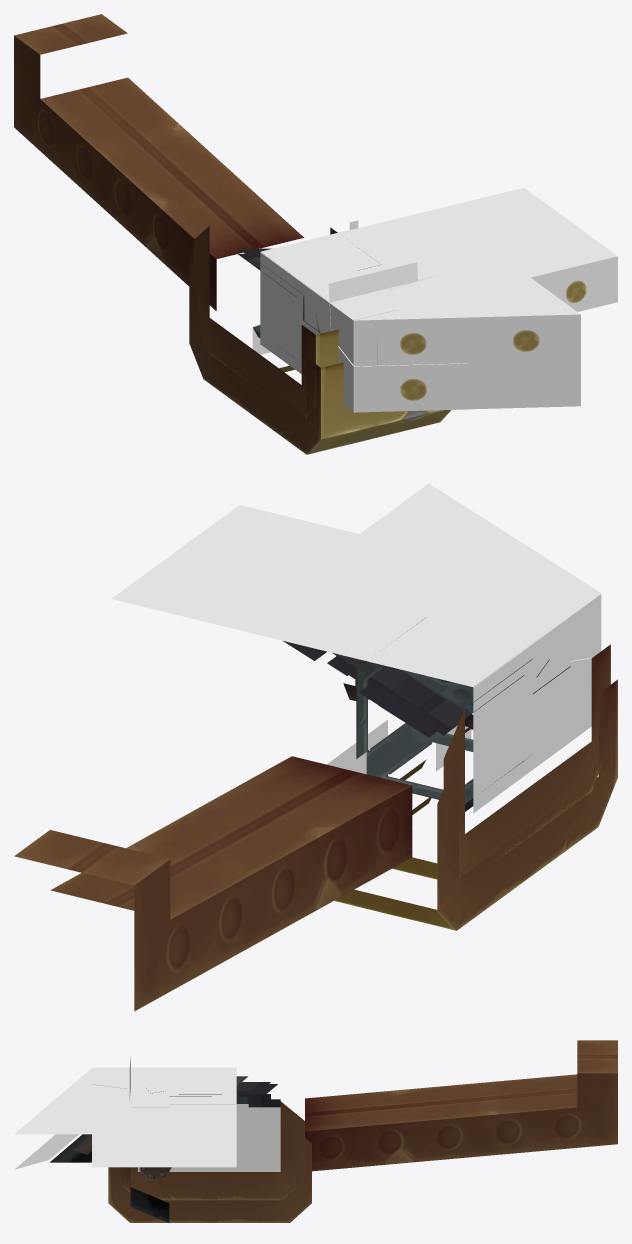
The model's file is rail.glb.
The picture shows the model from 3 angles, top to bottom: view 1: azimuth 30°, elevation 25°; view 2: azimuth 150°, elevation 25°; view 3: azimuth 270°, elevation 25°; orthographic projection. The views are drawn at different scales.
Visible parts, largest first — view 1: rsrc.world.tileset.prize_vault.edge_rail.rail-Variant[rail_b (×3), rsrc.world.tileset.prize_vault.edge_rail.rail-Variant[rail_c (×7), rsrc.world.tileset.prize_vault.edge_rail.rail-Variant[rail_t; view 2: rsrc.world.tileset.prize_vault.edge_rail.rail-Variant[rail_b (×2), rsrc.world.tileset.prize_vault.edge_rail.rail-Variant[rail_c (×9), rsrc.world.tileset.prize_vault.edge_rail.rail-Variant[rail_t; view 3: rsrc.world.tileset.prize_vault.edge_rail.rail-Variant[rail_b (×3), rsrc.world.tileset.prize_vault.edge_rail.rail-Variant[rail_c (×10), rsrc.world.tileset.prize_vault.edge_rail.rail-Variant[rail_t.
Part boxes in pixels (x1,y1,x2,y2): rsrc.world.tileset.prize_vault.edge_rail.rail-Variant[rail_b (×3): (14, 14, 450, 454); rsrc.world.tileset.prize_vault.edge_rail.rail-Variant[rail_c (×7): (193, 187, 617, 417); rsrc.world.tileset.prize_vault.edge_rail.rail-Variant[rail_t: (252, 210, 484, 353); rsrc.world.tileset.prize_vault.edge_rail.rail-Variant[rail_b (×2): (14, 563, 617, 1011); rsrc.world.tileset.prize_vault.edge_rail.rail-Variant[rail_c (×9): (111, 483, 610, 879); rsrc.world.tileset.prize_vault.edge_rail.rail-Variant[rail_t: (240, 535, 476, 774); rsrc.world.tileset.prize_vault.edge_rail.rail-Variant[rail_b (×3): (92, 1040, 617, 1222); rsrc.world.tileset.prize_vault.edge_rail.rail-Variant[rail_c (×10): (14, 1068, 304, 1222); rsrc.world.tileset.prize_vault.edge_rail.rail-Variant[rail_t: (138, 1153, 280, 1171).
Bounding box in the file's own units: 3.26 × 1.99 × 7.72.
7 materials, 6 textured.
